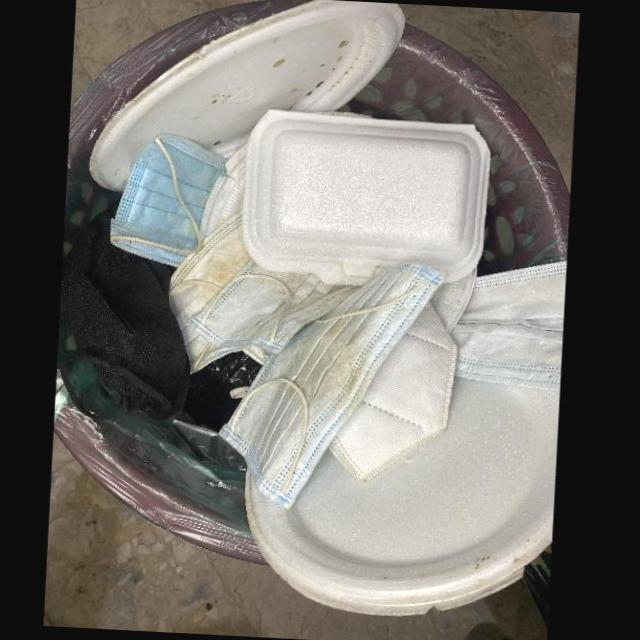khau_trang: (218, 261, 448, 510), (328, 301, 458, 482), (188, 260, 362, 354), (110, 134, 227, 268), (450, 261, 567, 390), (168, 210, 251, 375)
xop: (243, 376, 560, 617), (88, 0, 405, 193), (242, 110, 490, 287)
